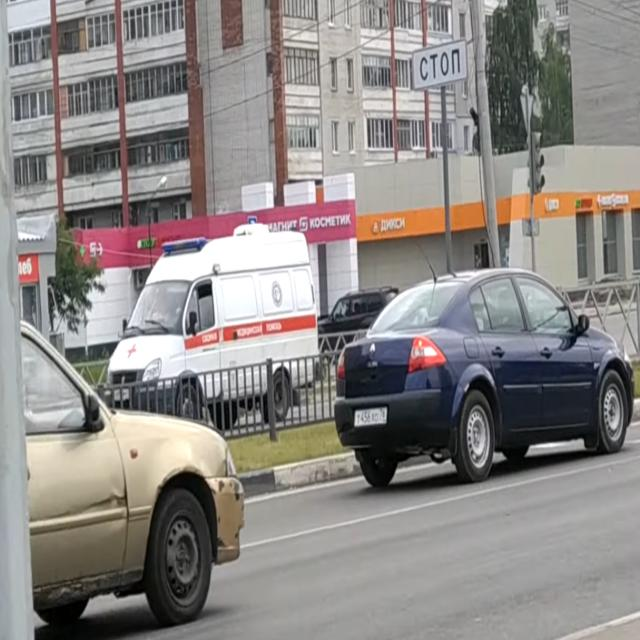ambulance: (107, 222, 318, 427)
non emergency car: (22, 316, 247, 628), (336, 264, 637, 490), (318, 287, 399, 350)
